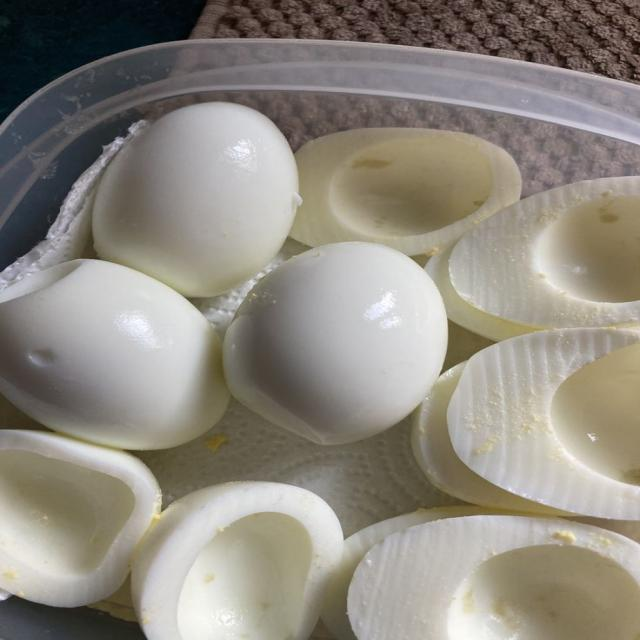egg boiled: (224, 243, 446, 444), (0, 259, 229, 450), (94, 103, 299, 296), (448, 328, 639, 519), (348, 515, 639, 639), (132, 481, 341, 639), (290, 128, 521, 256), (448, 176, 639, 328), (0, 430, 161, 605)
